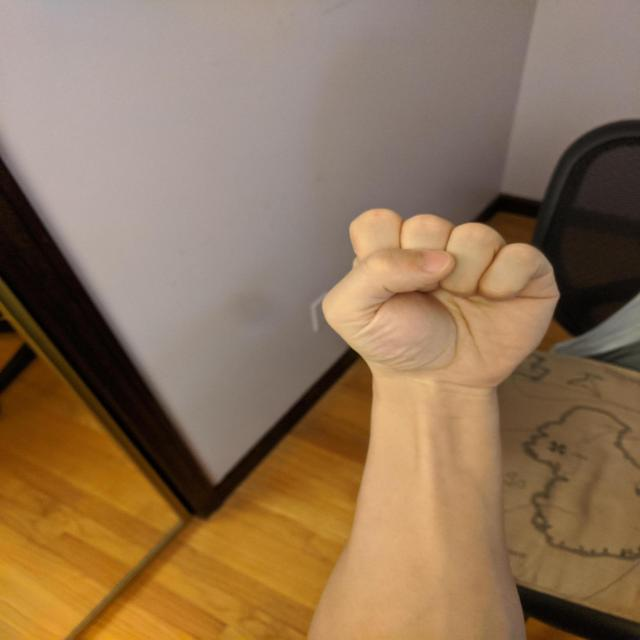S: (316, 203, 568, 391)
